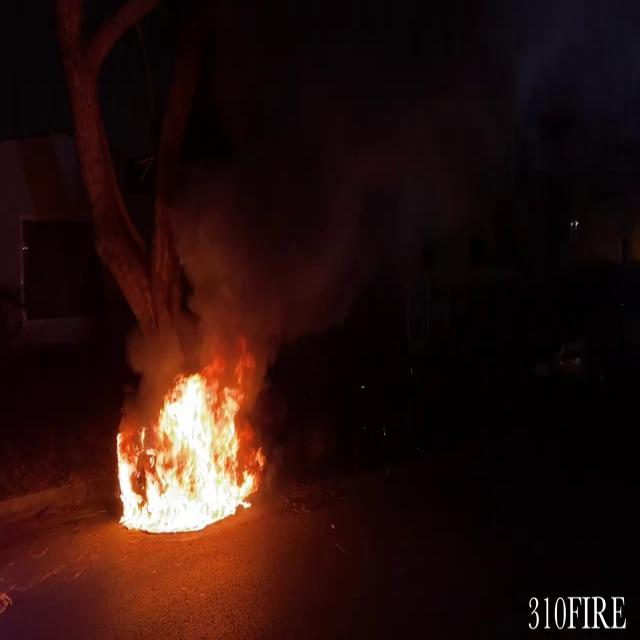Fire: (108, 365, 266, 538)
Smoke: (171, 108, 377, 354)
